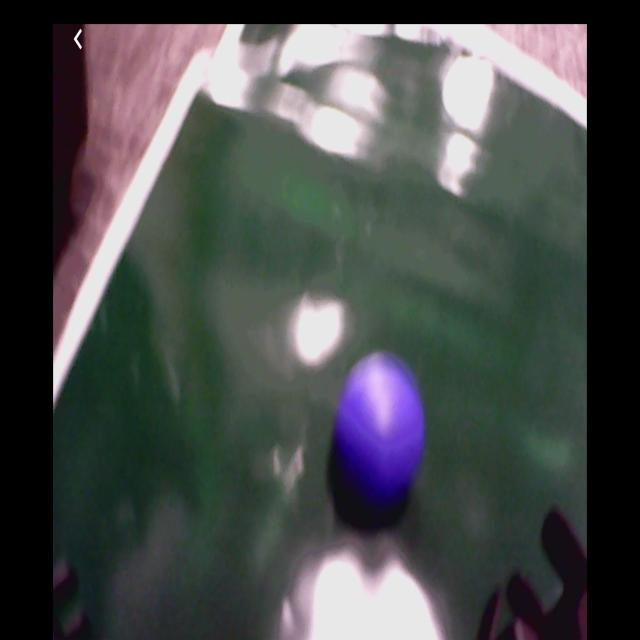ball: (336, 357, 425, 503)
